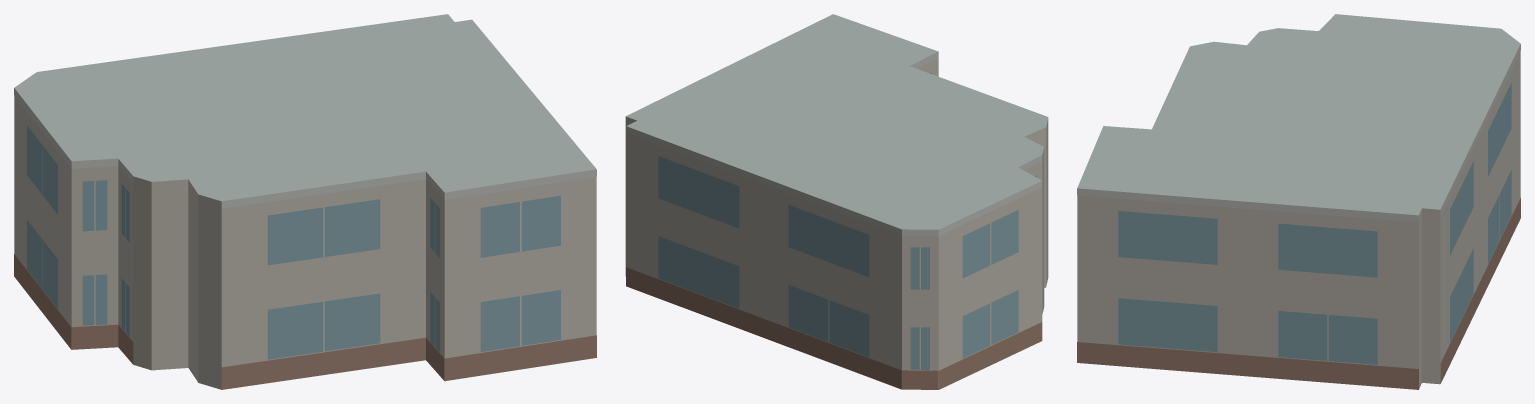
The model's file is survey-upis-32653164.glb.
3 views of the same model, side by side, from view 1: azimuth 30°, elevation 25°; view 2: azimuth 150°, elevation 25°; view 3: azimuth 270°, elevation 25° (orthographic). The views are drawn at different scales.
Parts seen in each view (by area): view 1: survey-upis-32653164.tmp; view 2: survey-upis-32653164.tmp; view 3: survey-upis-32653164.tmp.
Boxes of the visible parts, <box> form: survey-upis-32653164.tmp: <box>14,14,596,389</box>; survey-upis-32653164.tmp: <box>625,14,1048,389</box>; survey-upis-32653164.tmp: <box>1077,14,1520,389</box>.
Size of the model in its own units: 15.1 by 6.1 by 14.06.
